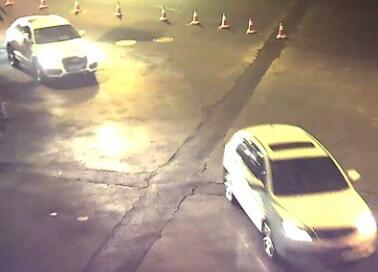car: (222, 125, 376, 266), (6, 13, 99, 83)
